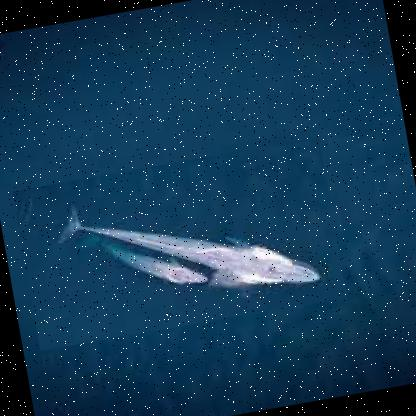blue_whale: (12, 136, 348, 352), (80, 186, 220, 274)
